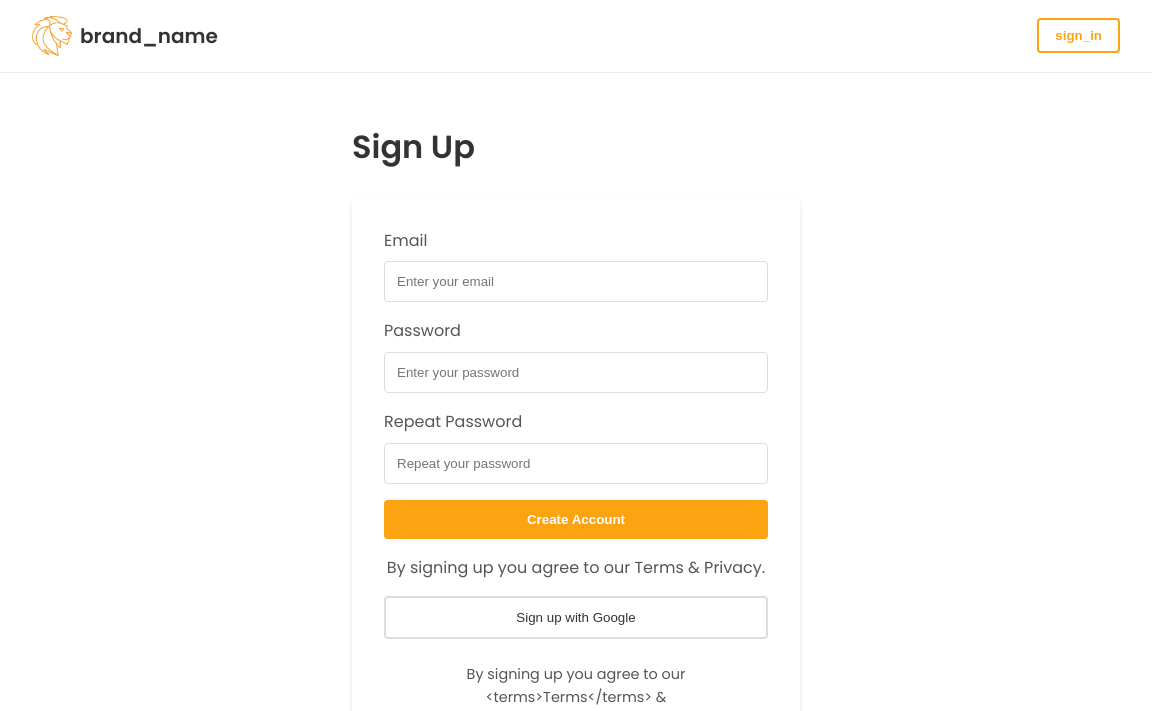
Test: <SignUpPage /> › shows error when passwords do not match
Type "test@example.com" into the field labelled "Email" at (576, 282), box [384,262,768,302]
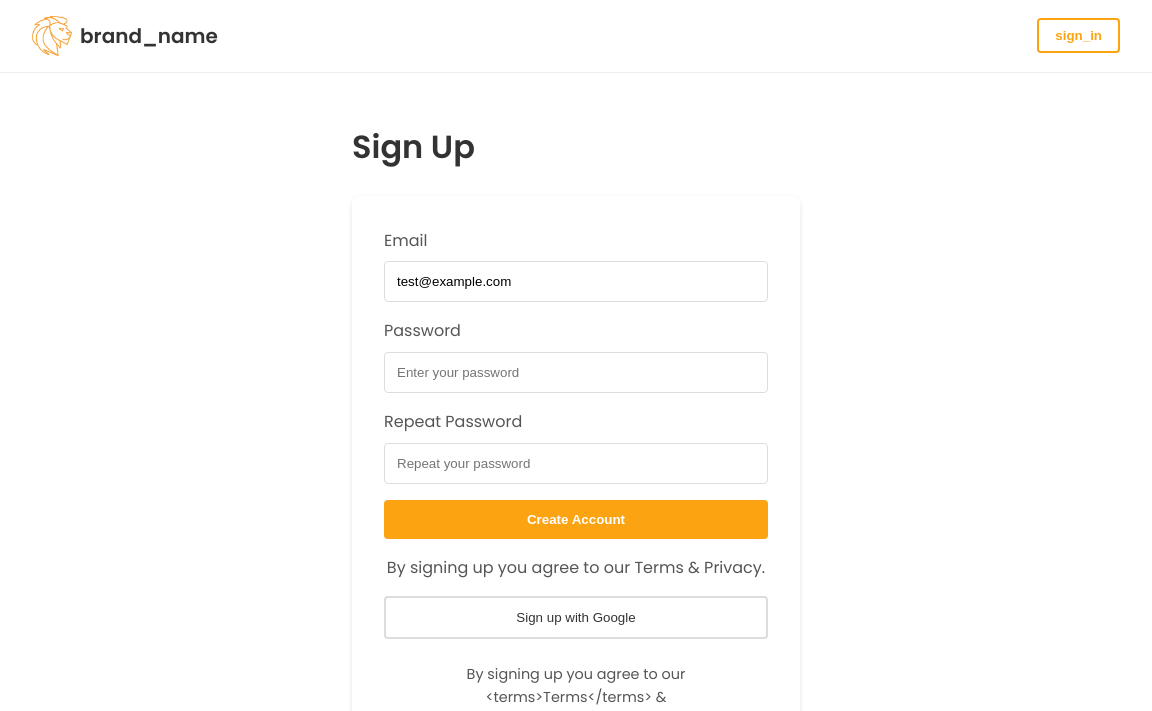
Type "abcdefgh" into the password field labelled "Password" at (576, 373), box [384,352,768,393]
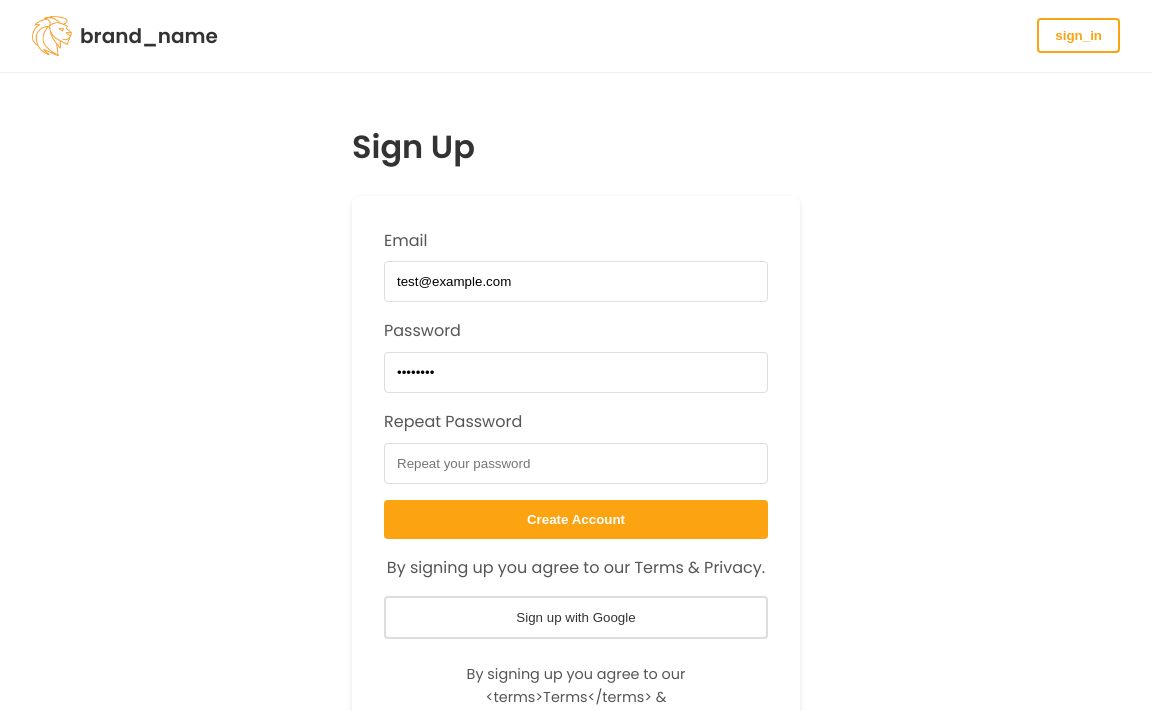
Type "abcdefgi" into the password field labelled "Repeat Password" at (576, 463), box [384,443,768,484]
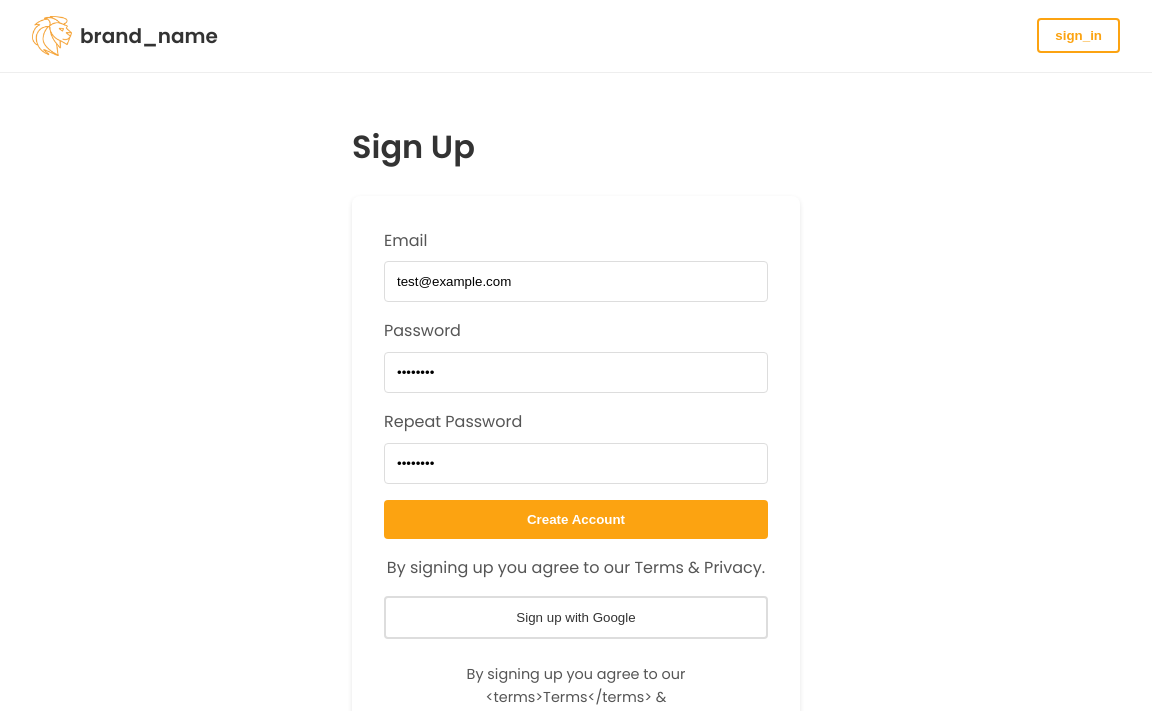
Click the button "Create Account" at (576, 519), box [384,500,768,539]
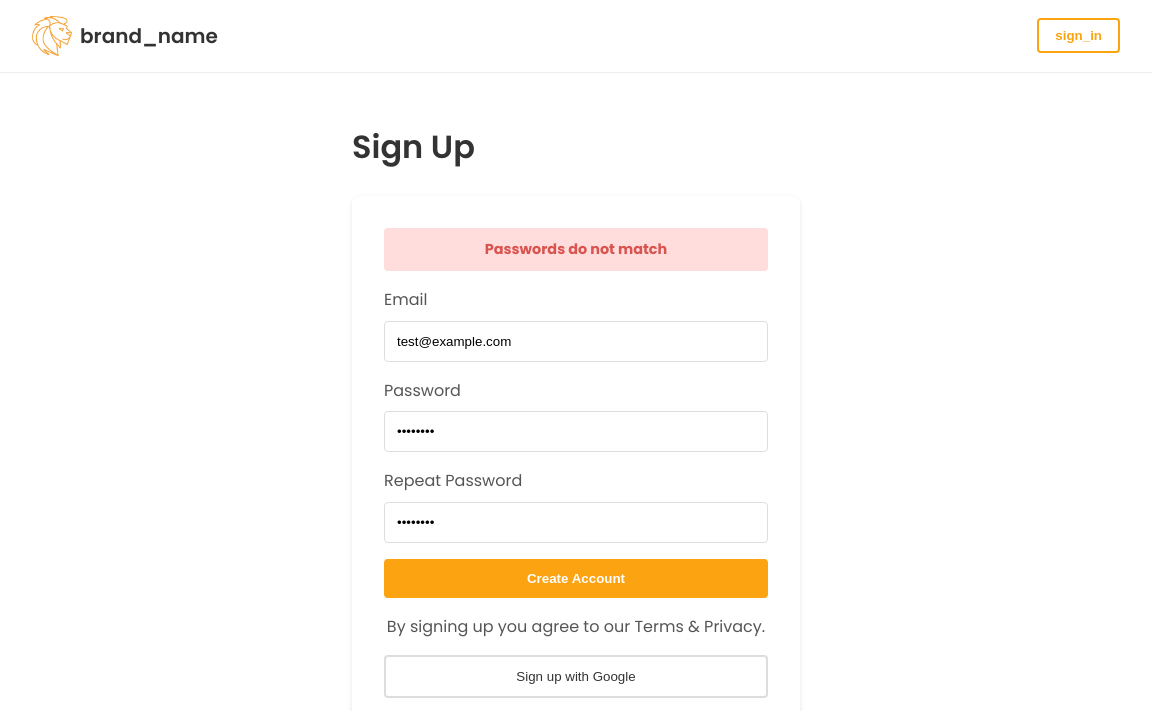
Check: the text "Passwords do not match" is shown, box [384,228,768,271]
